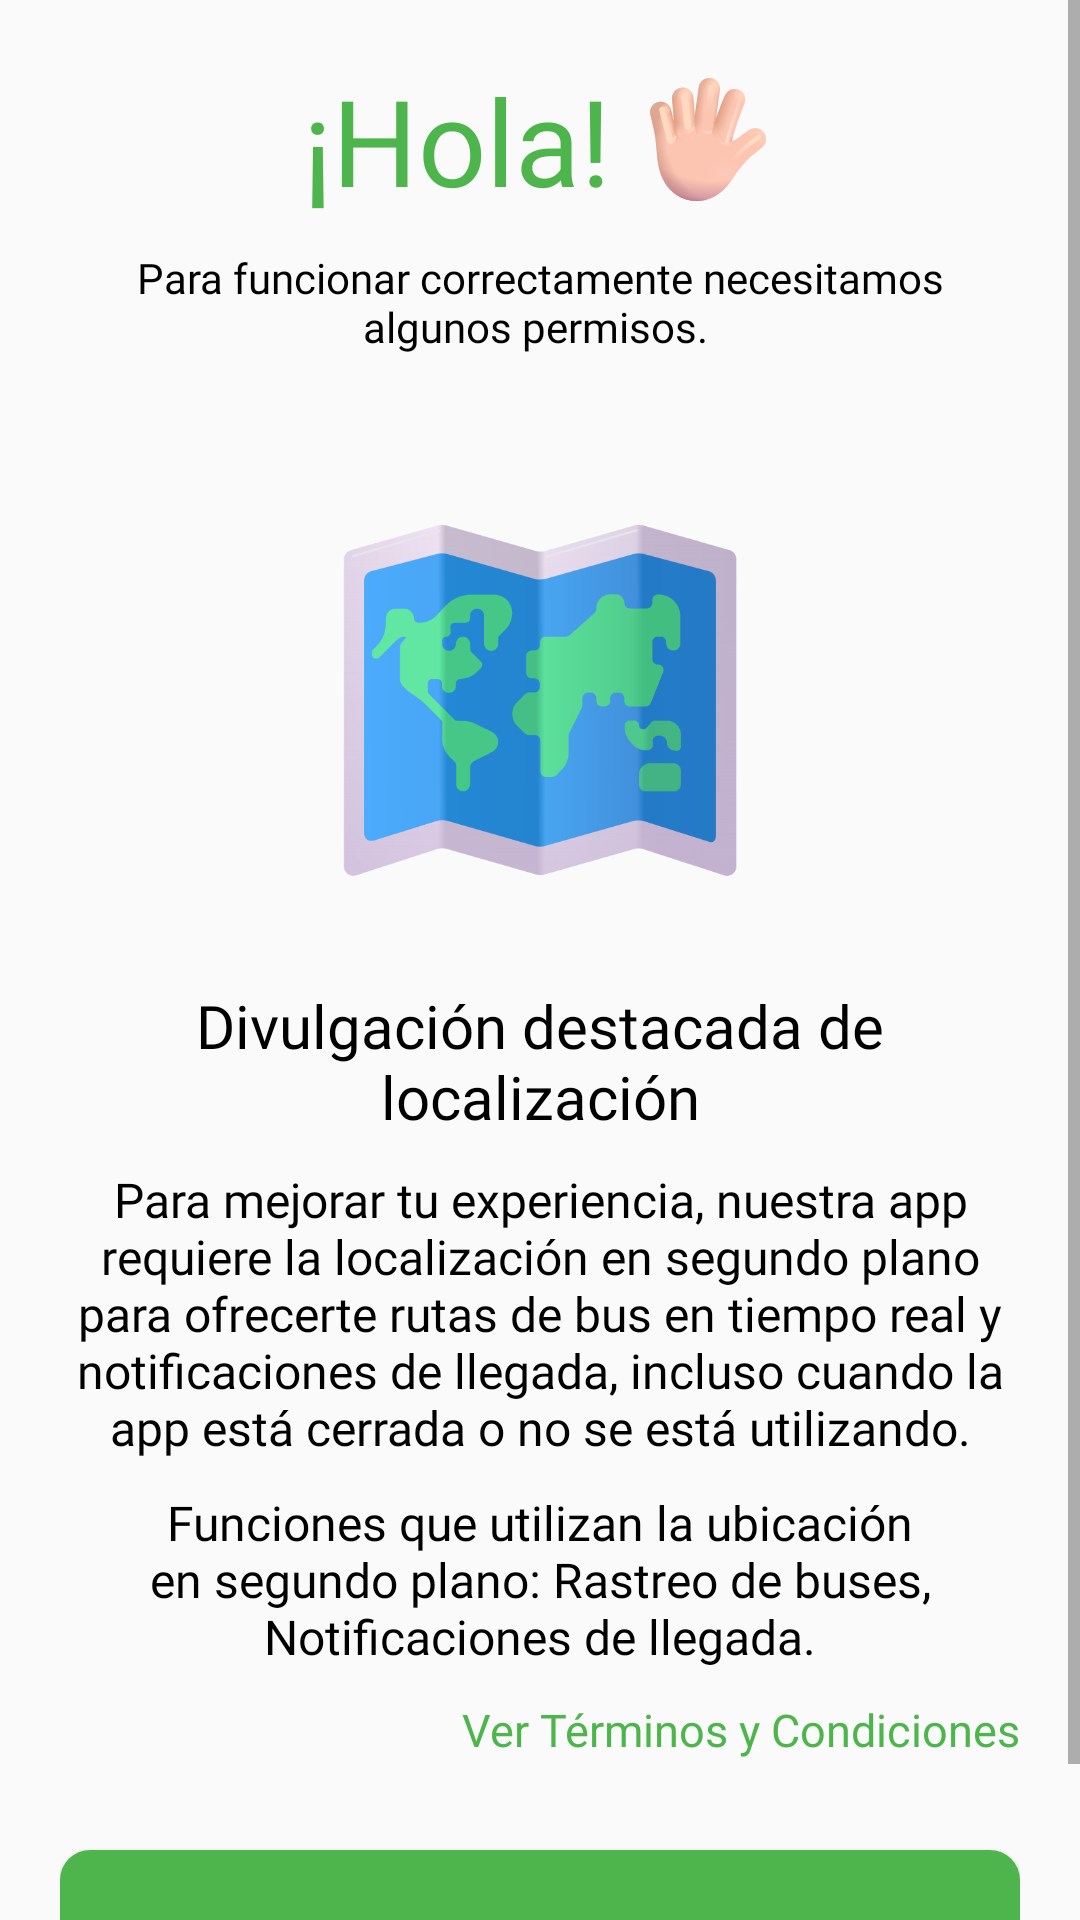

Icons on this 1080 x 1920 Android screen, each with its box as (x1, y1, x2, y2):
hand with fingers splayed: (650, 78, 766, 201)
